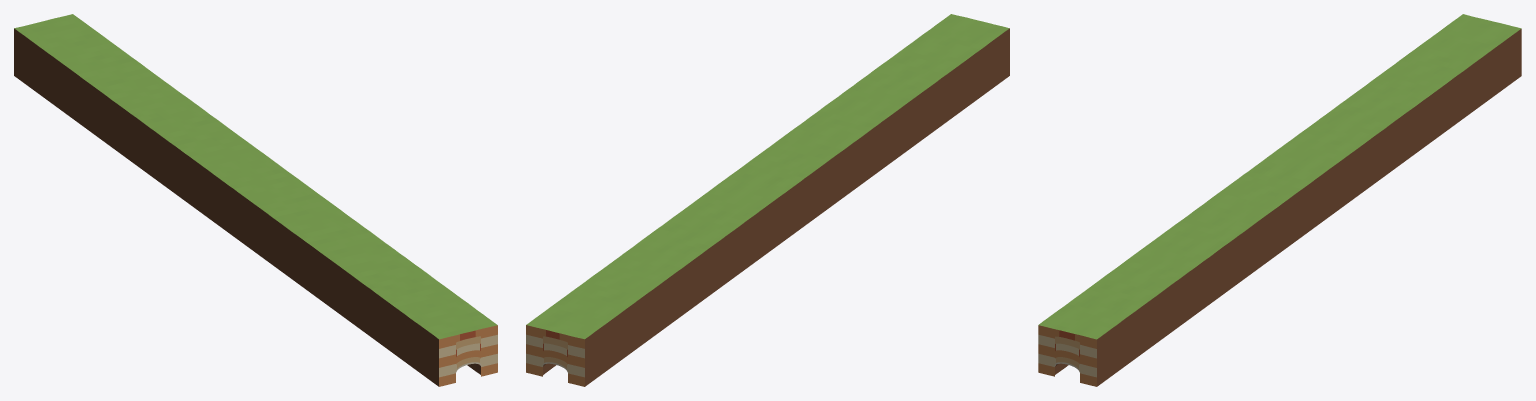
The model's file is tunel_b.glb.
3 renders of one model, left to right at view 1: azimuth 30°, elevation 25°; view 2: azimuth 150°, elevation 25°; view 3: azimuth 330°, elevation 25°, orthographic.
Visible parts, largest first — view 1: tunel_b; view 2: tunel_b; view 3: tunel_b.
Boxes of the visible parts, box(x1,y1,x2,y2) form: tunel_b: box(14, 14, 497, 386); tunel_b: box(526, 14, 1009, 386); tunel_b: box(1038, 14, 1521, 386).
Bounding box in the file's own units: 84 × 65.29 × 1053.
